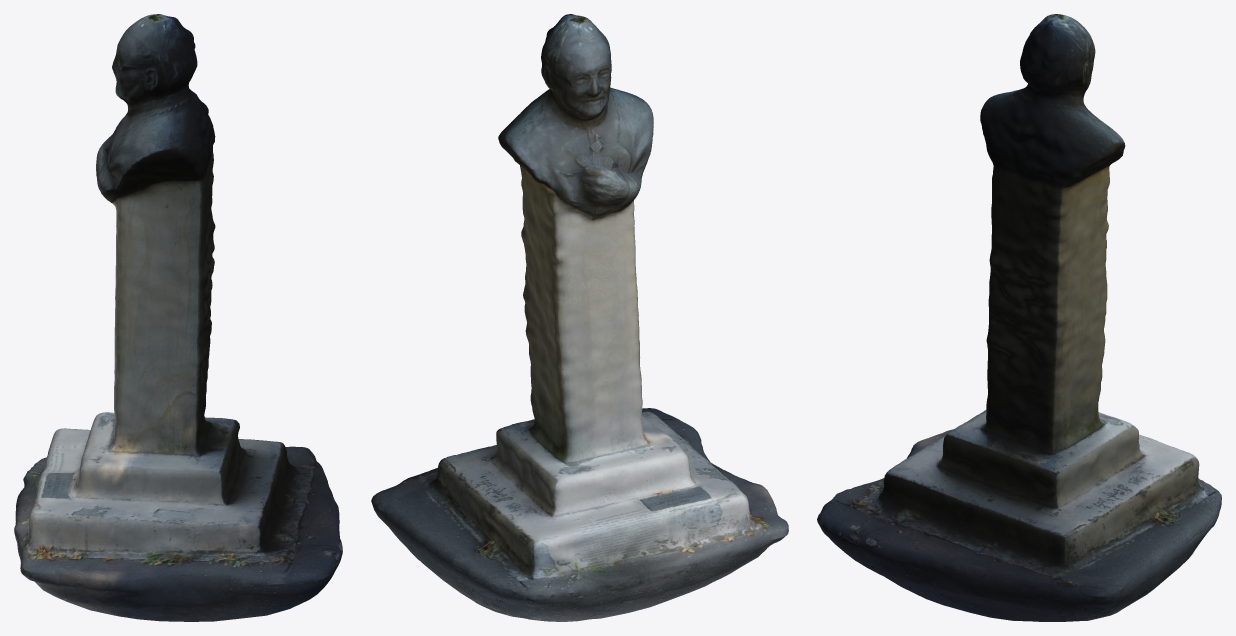
Rendered from pomnikDwa.gltf.
3 renders of one model, left to right at view 1: azimuth 30°, elevation 25°; view 2: azimuth 150°, elevation 25°; view 3: azimuth 270°, elevation 25°, orthographic. The views are drawn at different scales.
Visible parts, largest first — view 1: Powierzchnie_podzielone; view 2: Powierzchnie_podzielone; view 3: Powierzchnie_podzielone.
Boxes of the visible parts, left/top/right/bottom form: Powierzchnie_podzielone: left=14, top=14, right=342, bottom=621; Powierzchnie_podzielone: left=371, top=14, right=788, bottom=621; Powierzchnie_podzielone: left=817, top=14, right=1221, bottom=621.
Bounding box in the file's own units: 1.68 × 2.66 × 1.71.
1 material, 1 textured.
